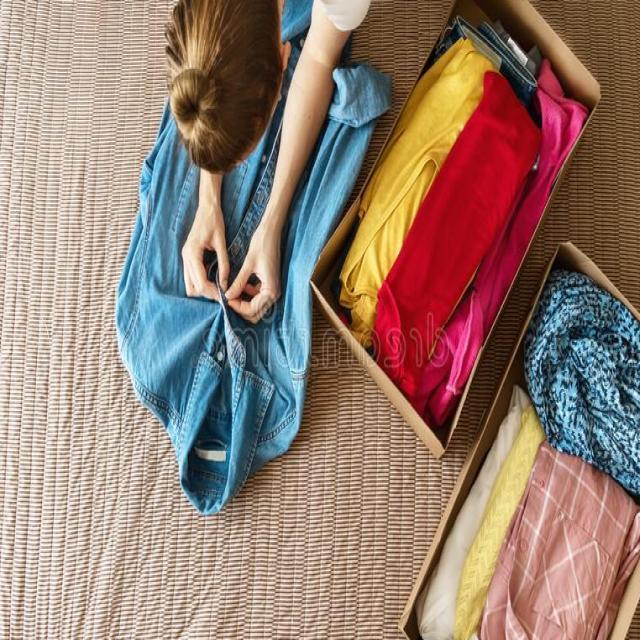clothes: (324, 71, 570, 386)
